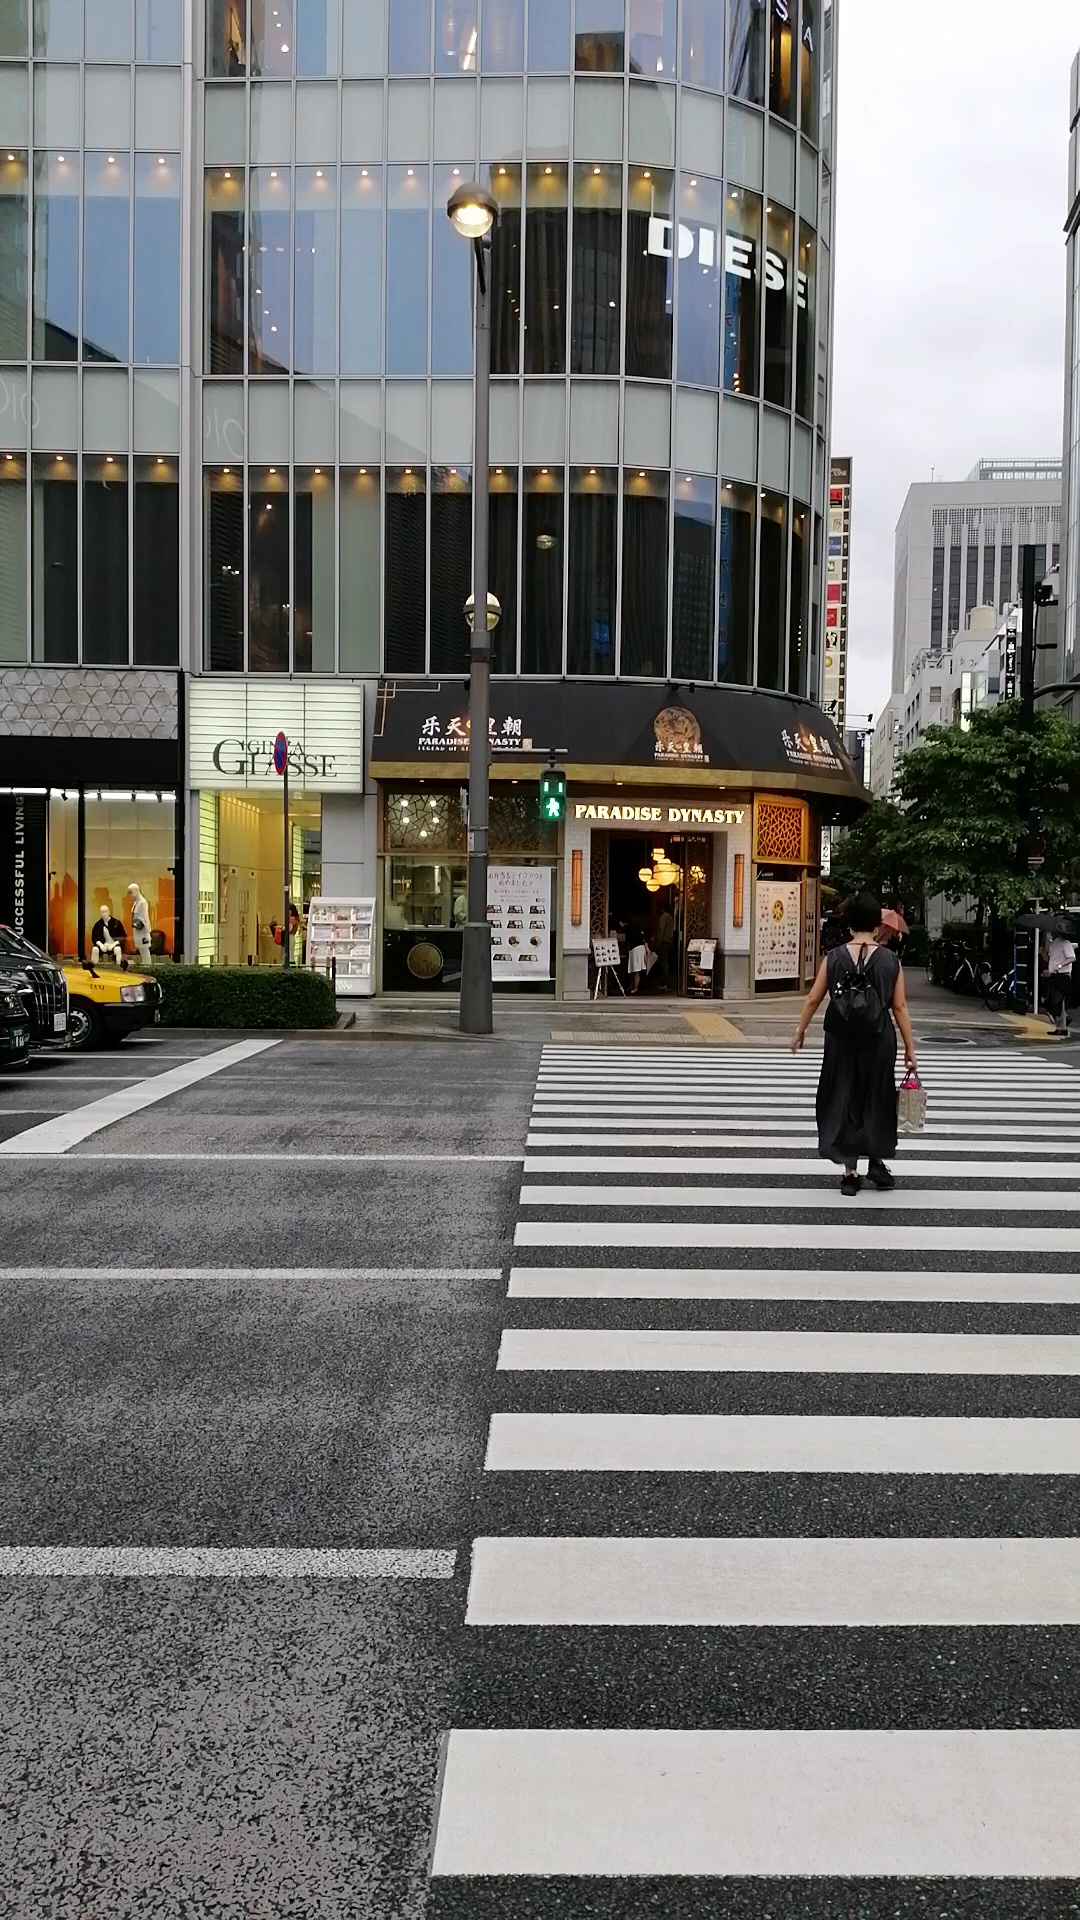green: (535, 769, 567, 825)
